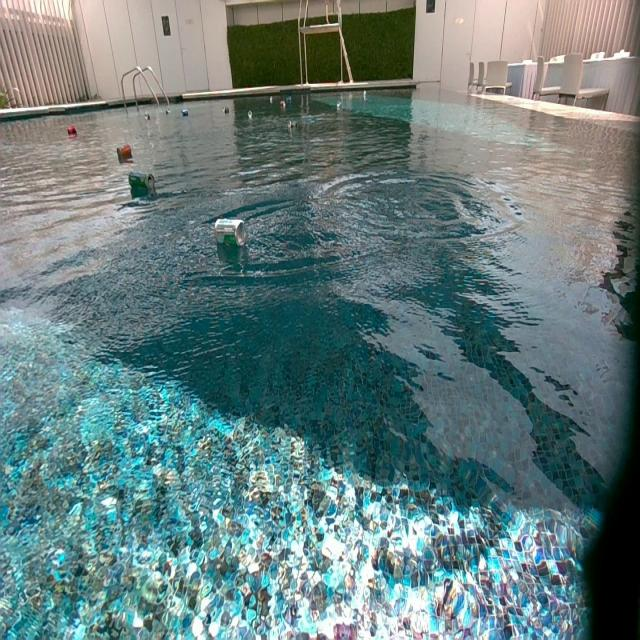Cans: (214, 219, 246, 250), (128, 172, 154, 191), (116, 144, 130, 160), (288, 118, 298, 132), (67, 126, 77, 138), (221, 106, 230, 115), (181, 109, 189, 118), (248, 110, 254, 120), (144, 113, 151, 121), (165, 108, 173, 115), (286, 96, 292, 105), (337, 102, 343, 110), (280, 102, 286, 110), (362, 91, 368, 98), (280, 100, 285, 107), (269, 96, 273, 102)
